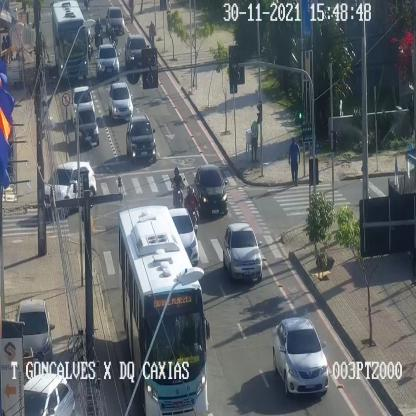bicycle: (150, 20, 155, 48)
bus: (118, 206, 208, 415), (50, 0, 91, 76)
car: (272, 318, 328, 393), (44, 161, 96, 217), (16, 300, 52, 370), (223, 222, 262, 280), (23, 374, 76, 416), (194, 164, 228, 214), (168, 208, 198, 263), (126, 116, 156, 160), (74, 106, 99, 144), (108, 82, 132, 118), (71, 86, 94, 122), (96, 44, 119, 79), (124, 34, 148, 67), (105, 6, 124, 34)
motorbike: (184, 186, 200, 234), (171, 167, 185, 208), (94, 18, 102, 48), (86, 29, 92, 62), (109, 26, 117, 50)
person: (289, 136, 300, 185), (250, 119, 258, 162)
